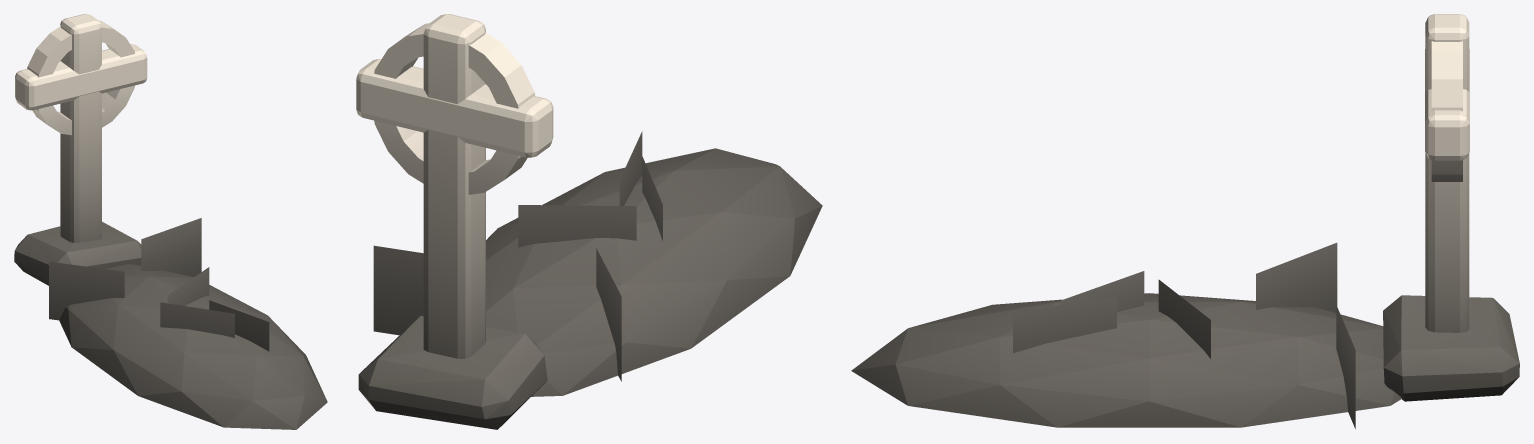
The model's file is SM_VK_Grave_Cross.fbx.
3 views of the same model, side by side, from view 1: azimuth 30°, elevation 25°; view 2: azimuth 150°, elevation 25°; view 3: azimuth 270°, elevation 25° (orthographic). The views are drawn at different scales.
Parts seen in each view (by area): view 1: SM_VK_Grave_Cross.001; view 2: SM_VK_Grave_Cross.001; view 3: SM_VK_Grave_Cross.001.
Boxes of the visible parts, bbox=[...] form: SM_VK_Grave_Cross.001: bbox=[14, 14, 327, 429]; SM_VK_Grave_Cross.001: bbox=[356, 14, 822, 429]; SM_VK_Grave_Cross.001: bbox=[851, 14, 1519, 428].
Size of the model in its own units: 0.8738 by 1.25 by 2.13.
